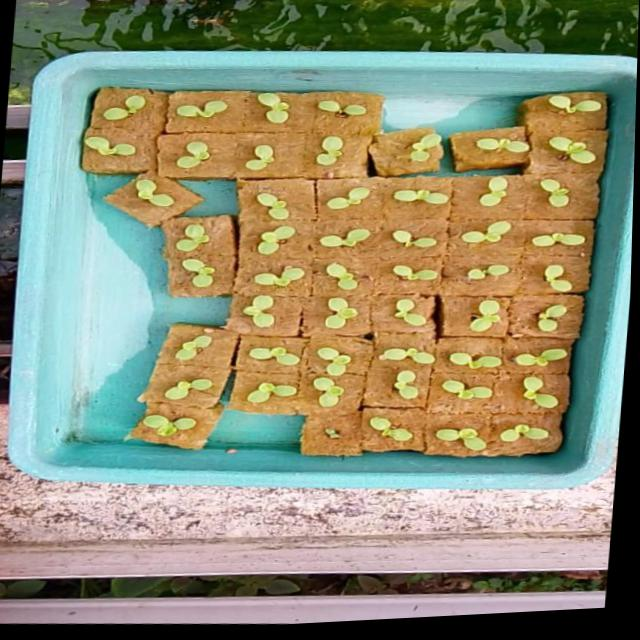Baby: (132, 177, 185, 217), (91, 93, 155, 124), (518, 175, 577, 208), (105, 126, 157, 155), (241, 227, 294, 255), (251, 342, 305, 369), (389, 297, 434, 328), (253, 260, 301, 289), (536, 305, 577, 337), (454, 266, 514, 287), (167, 103, 226, 123), (146, 411, 199, 433), (174, 219, 209, 252), (437, 427, 487, 450), (511, 348, 570, 367), (371, 415, 414, 441), (469, 300, 501, 333), (524, 376, 558, 407), (459, 222, 509, 243), (389, 229, 438, 250), (245, 294, 277, 326), (327, 296, 359, 328), (168, 375, 216, 396), (319, 346, 353, 375), (179, 333, 215, 359), (257, 96, 288, 126), (450, 352, 503, 369), (315, 374, 345, 404), (320, 229, 370, 247), (381, 348, 437, 364), (256, 192, 288, 220), (249, 384, 296, 403), (499, 423, 547, 441), (325, 263, 357, 290), (180, 143, 212, 170), (315, 137, 343, 166), (478, 179, 506, 207), (530, 233, 582, 247), (183, 266, 216, 288), (392, 265, 436, 281), (334, 188, 366, 210), (541, 266, 568, 292), (245, 146, 273, 171), (396, 370, 420, 399), (452, 384, 492, 398)
